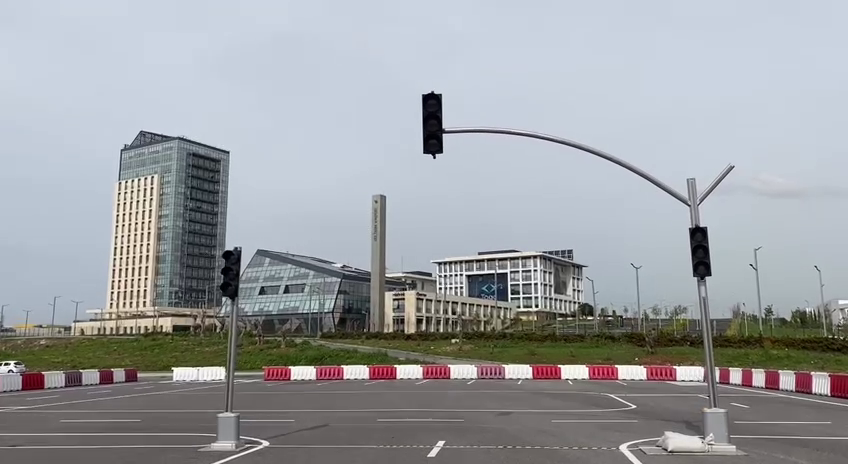trafficLight: (418, 86, 448, 161), (686, 223, 717, 282), (217, 241, 246, 303)
